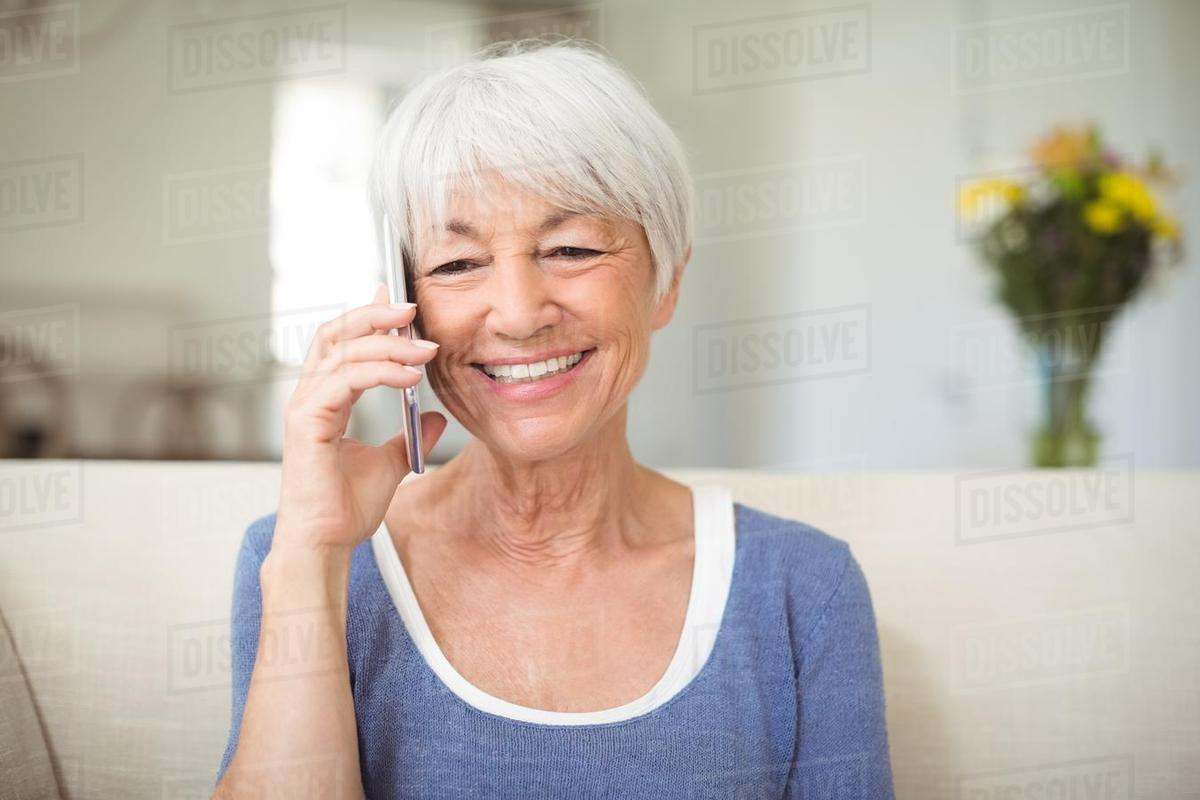phone: (291, 290, 444, 490)
talk: (257, 183, 658, 550)
